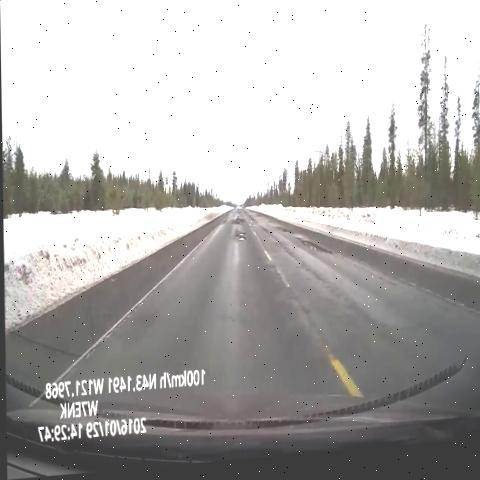pothole: (294, 238, 337, 277), (267, 219, 297, 247), (227, 230, 252, 256), (229, 215, 248, 238), (216, 221, 231, 236)
